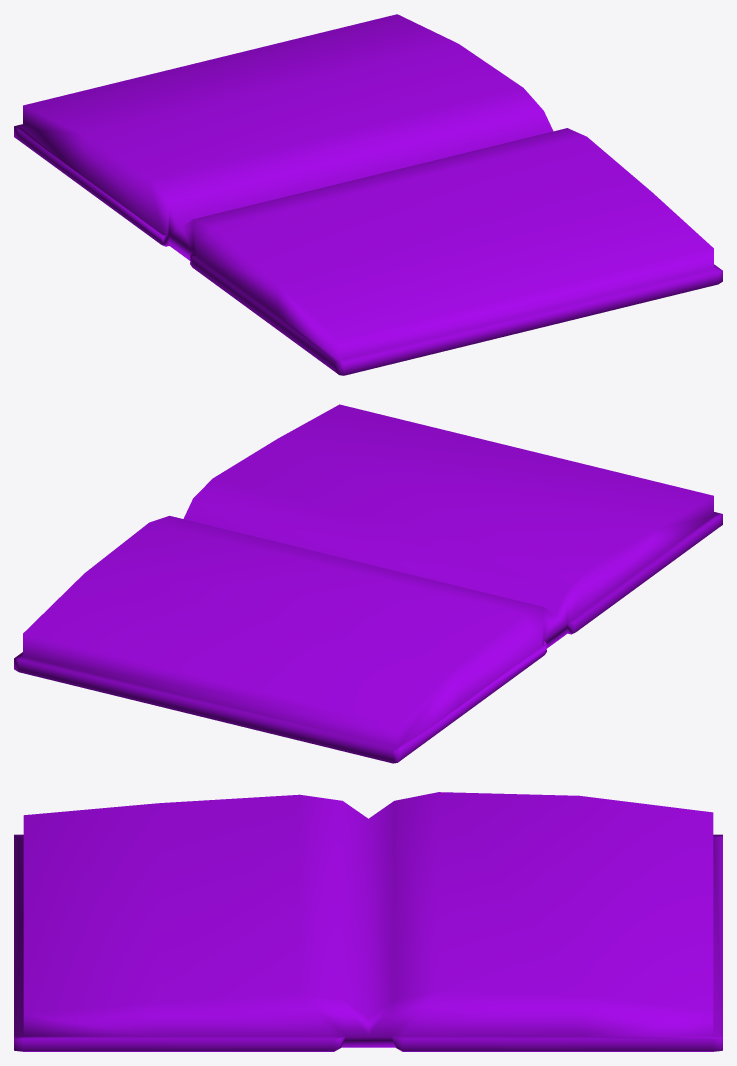
Rendered from Book_Open_01.fbx.
3 views of the same model, one above another, from view 1: azimuth 30°, elevation 25°; view 2: azimuth 150°, elevation 25°; view 3: azimuth 270°, elevation 25° (orthographic). The views are drawn at different scales.
Visible parts, largest first — view 1: Book_Open_01; view 2: Book_Open_01; view 3: Book_Open_01.
Part boxes in pixels (x1=…): Book_Open_01: x1=14, y1=14, x2=722, y2=375; Book_Open_01: x1=14, y1=404, x2=722, y2=763; Book_Open_01: x1=14, y1=792, x2=722, y2=1051.
Bounding box in the file's own units: 127 × 17.67 × 187.
